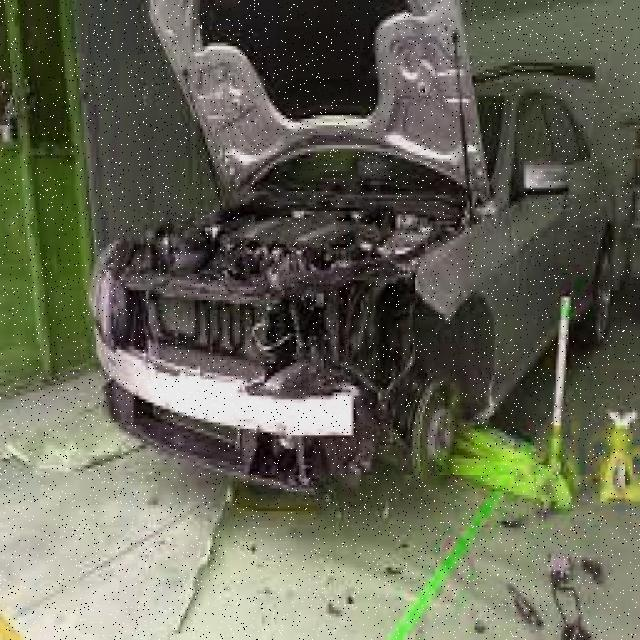car damage: (104, 206, 494, 493)
